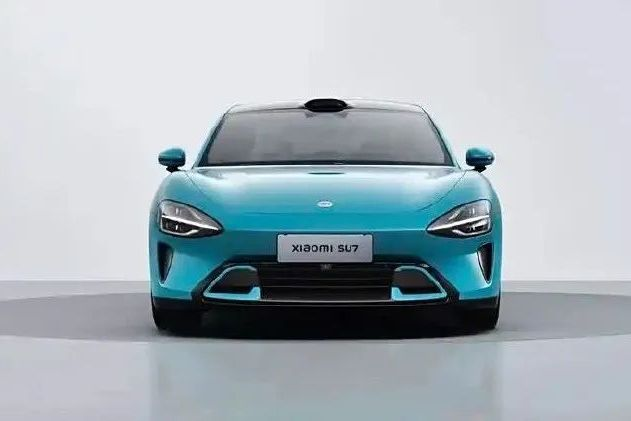su7: (141, 88, 500, 338)
